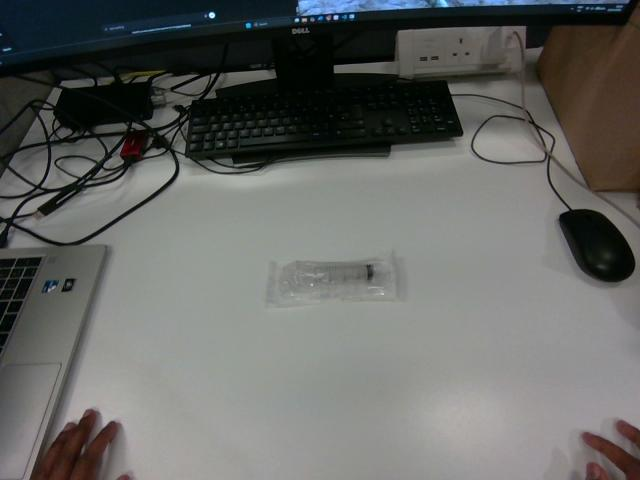syringe: (267, 252, 396, 306)
